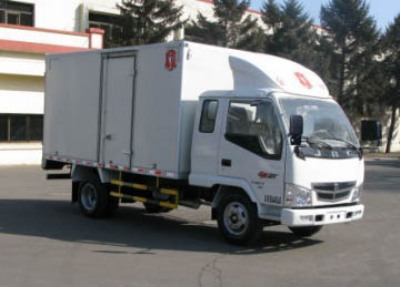smalltruck: (20, 25, 369, 244)
